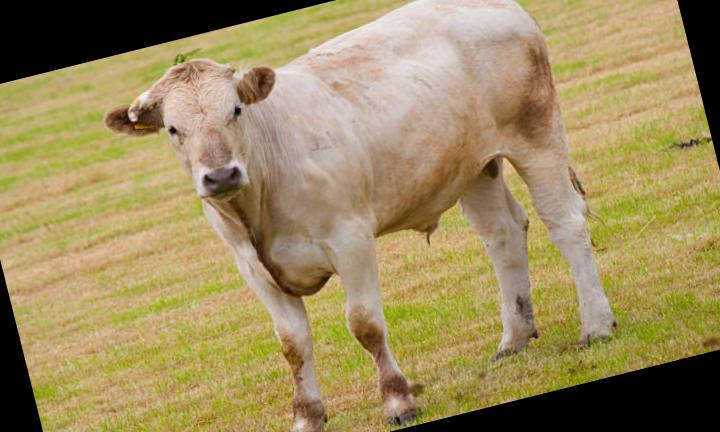Charolais: (105, 0, 615, 432)
